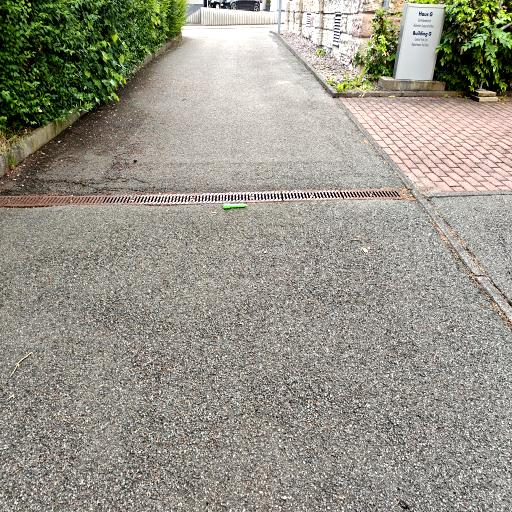Probe-Detection: (223, 204, 247, 209)
